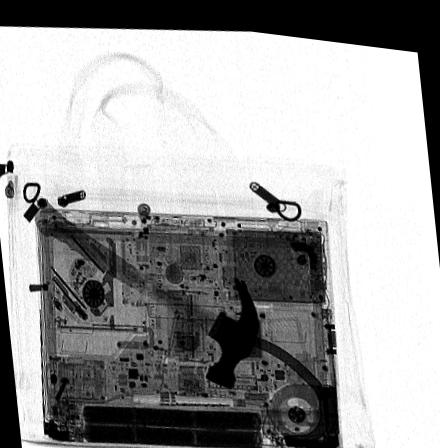Hammer: (33, 196, 260, 384)
